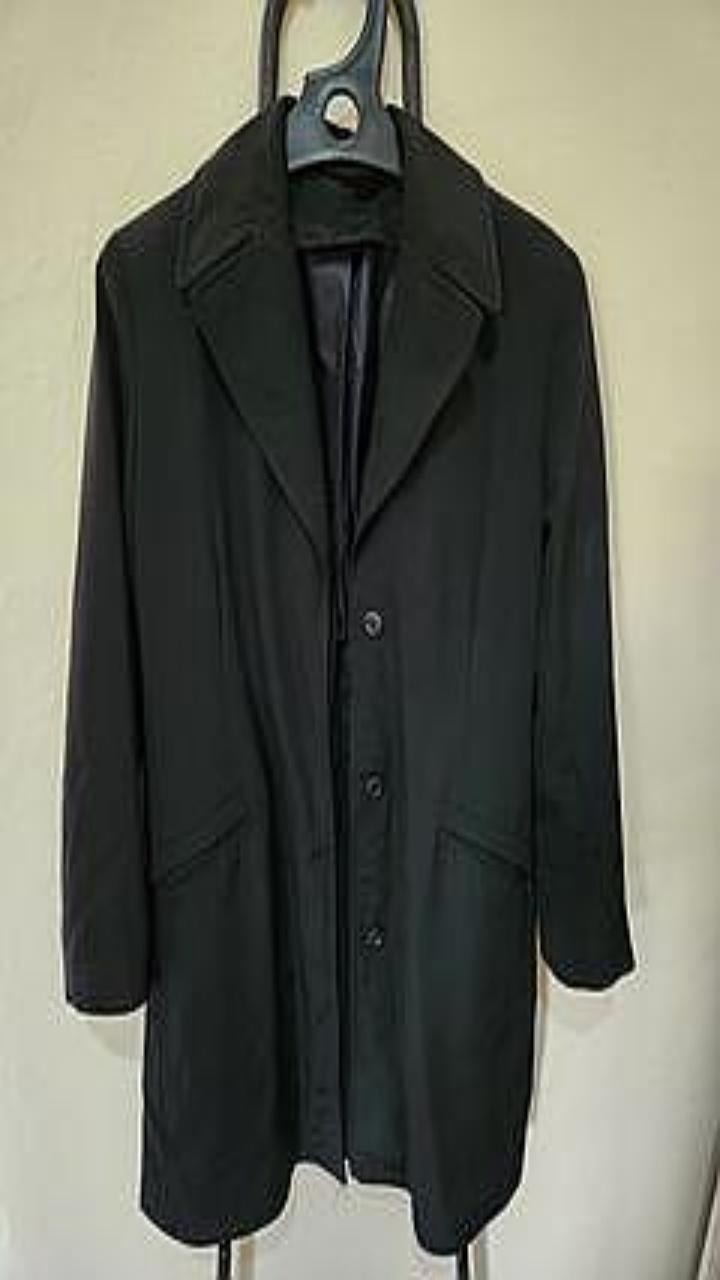Coat: (62, 95, 635, 1274)
